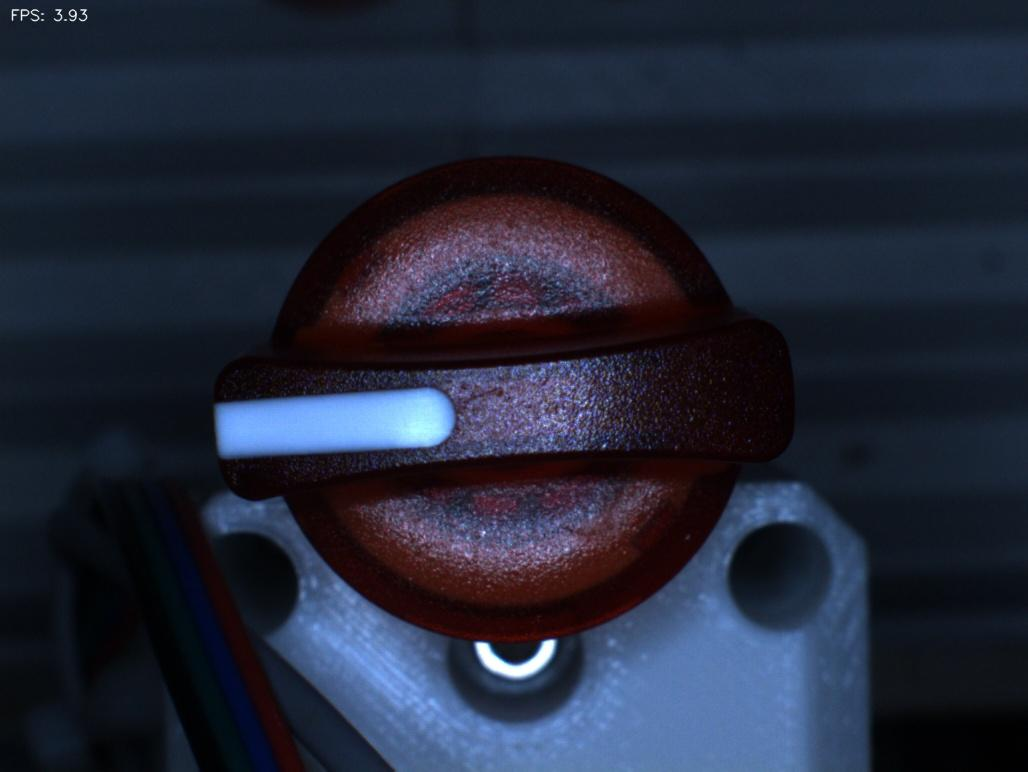Choc: (205, 450, 305, 526)
